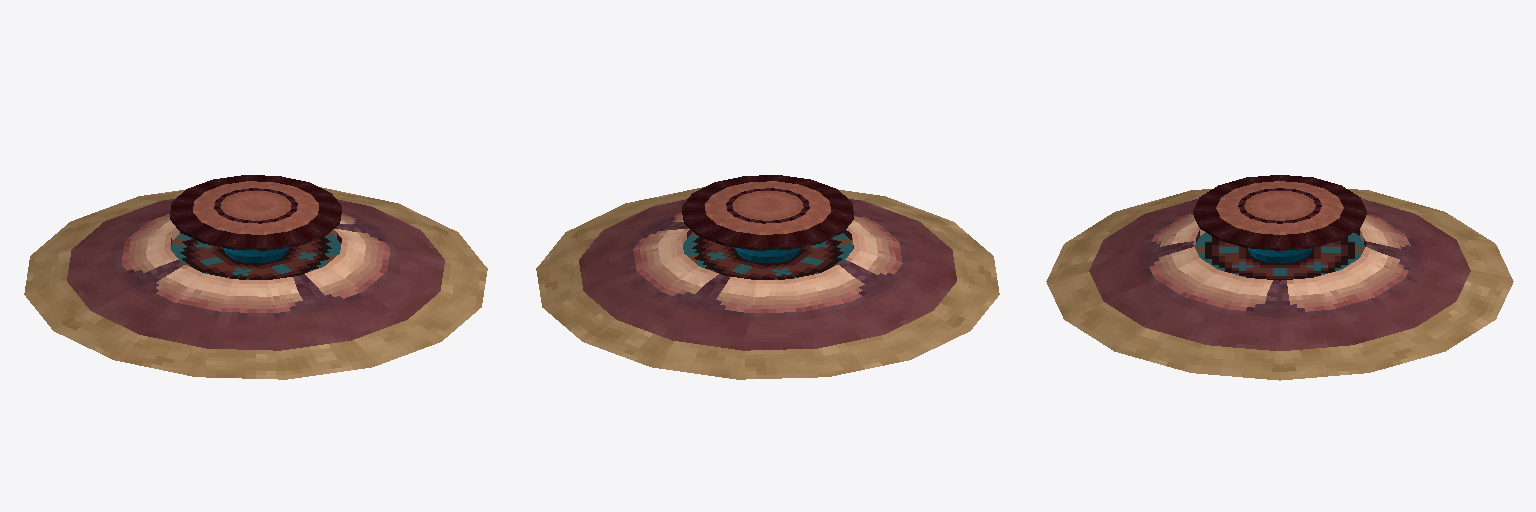
3 renders of one model, left to right at view 1: azimuth 30°, elevation 25°; view 2: azimuth 150°, elevation 25°; view 3: azimuth 270°, elevation 25°, orthographic.
Visible parts, largest first — view 1: Cylinder.001; view 2: Cylinder.001; view 3: Cylinder.001.
Part boxes in pixels (x1,y1,x2,y2): Cylinder.001: (24,175,487,379); Cylinder.001: (536,175,999,379); Cylinder.001: (1046,175,1513,380).
Size of the model in its own units: 6.57 by 1.58 by 6.57.
Materials: 2 (1 with a texture image).